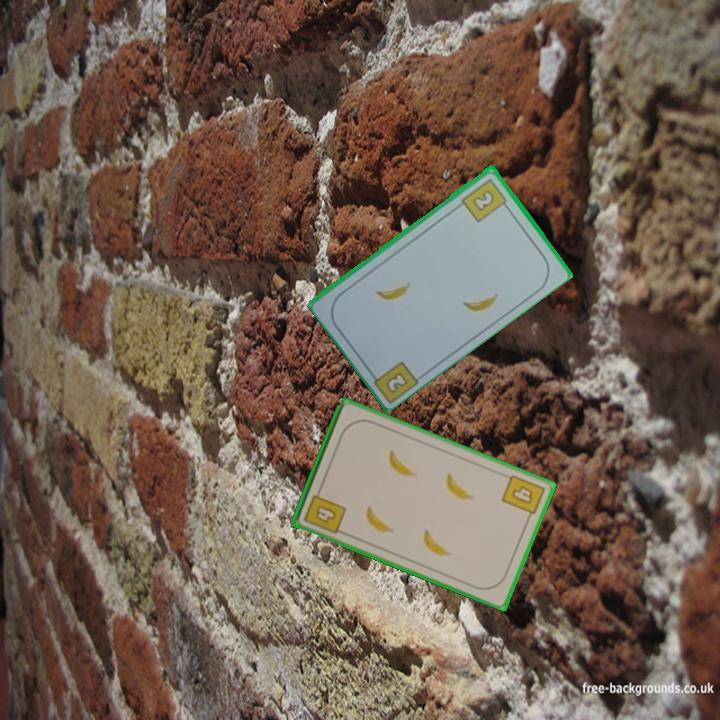2b: (458, 175, 512, 225), (365, 357, 422, 404)
4b: (498, 471, 548, 524), (300, 484, 349, 537)
